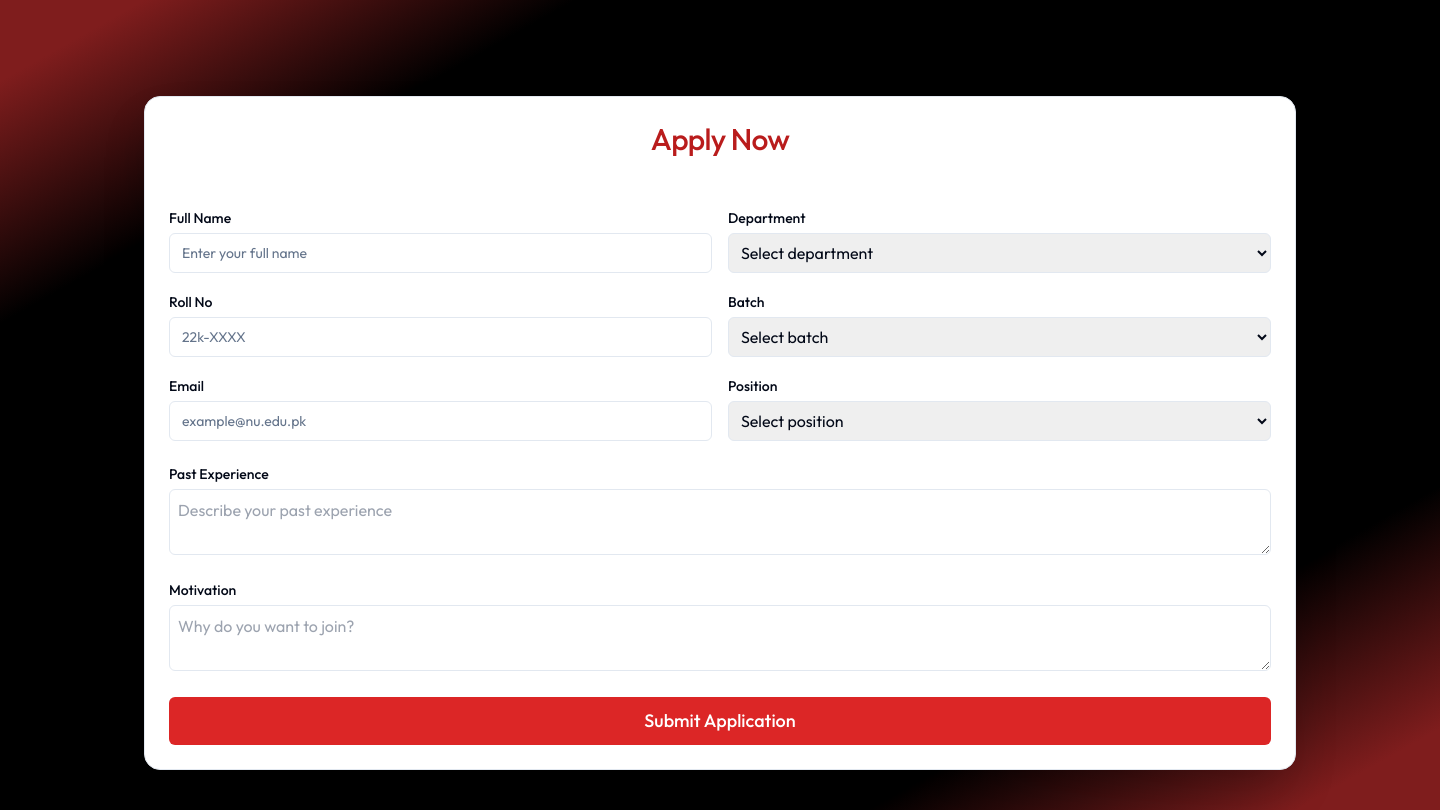
Test: Team Form Validation › should show error when name field is empty
Click the button "Submit Application": {"x": 720, "y": 721} [169, 697, 1271, 745]
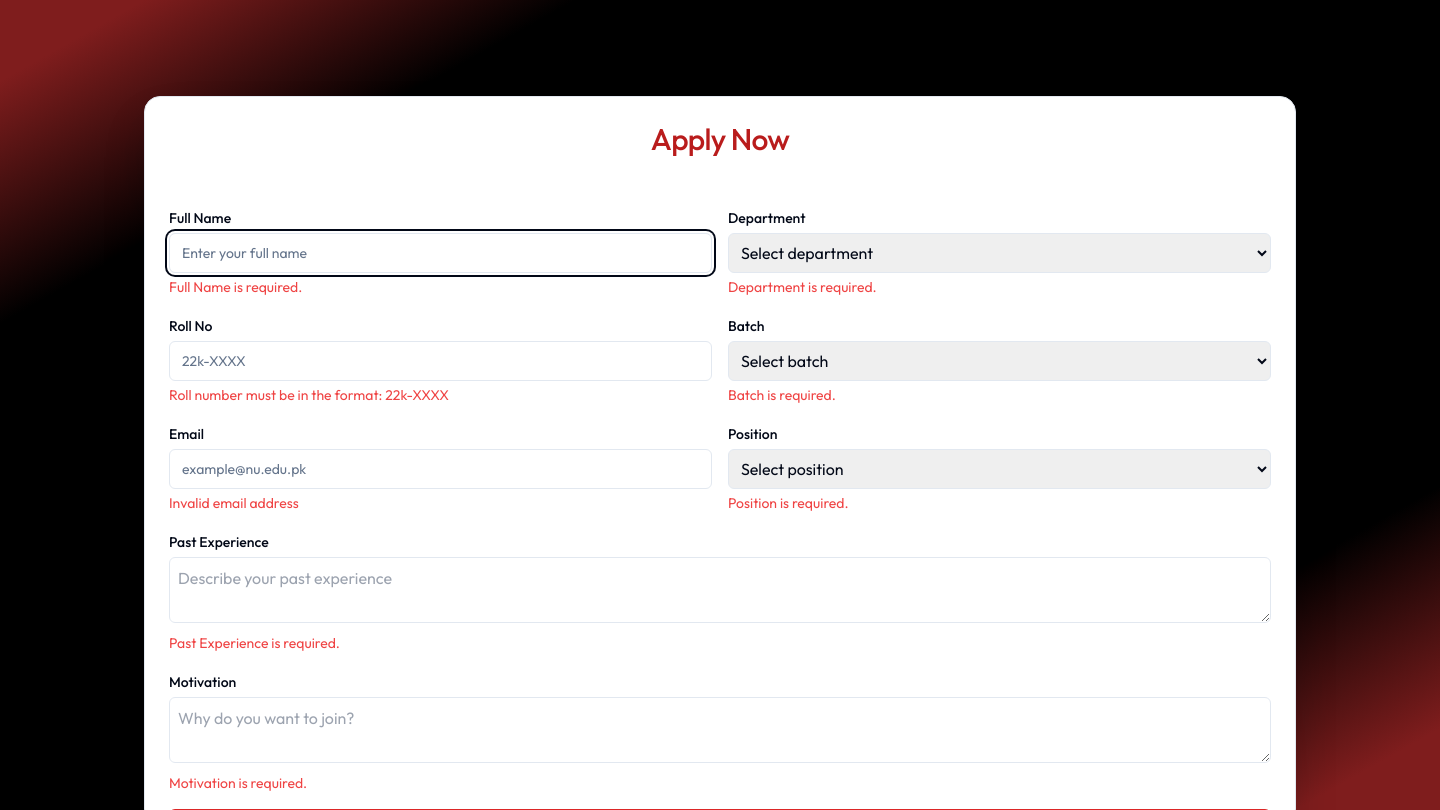
expect the text "Full Name is required." is shown: met, box [169, 278, 302, 296]
